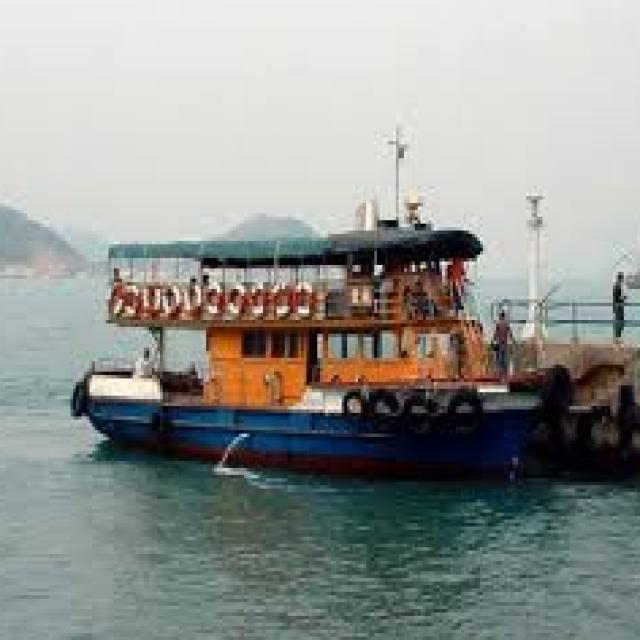passenger ship: (84, 188, 551, 496)
